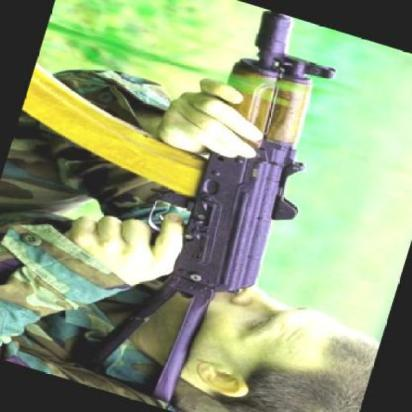Gun: (8, 0, 362, 412)
